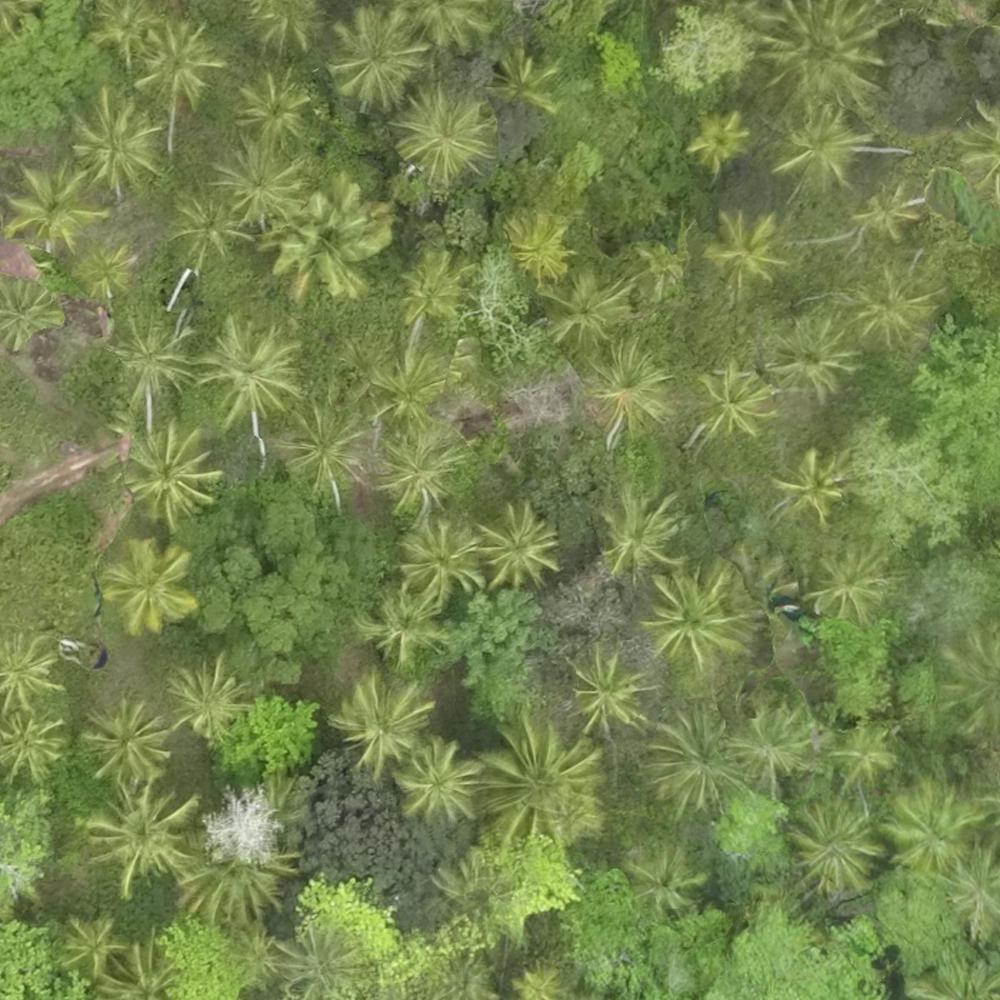Palm: (759, 1, 887, 121), (478, 721, 597, 839), (86, 785, 190, 888), (199, 317, 299, 424), (279, 191, 382, 294), (178, 826, 281, 924), (66, 93, 166, 193), (644, 563, 746, 661), (648, 708, 743, 812), (331, 7, 428, 100), (393, 90, 491, 179), (791, 797, 881, 893), (886, 786, 978, 876), (105, 539, 194, 631), (124, 430, 215, 519), (540, 266, 636, 350), (217, 136, 305, 227), (7, 162, 100, 248), (332, 679, 421, 768), (400, 517, 493, 602), (84, 700, 170, 790), (772, 104, 866, 186), (765, 315, 859, 397), (566, 648, 649, 739), (109, 312, 194, 400), (597, 493, 685, 578), (703, 207, 788, 293), (688, 358, 777, 440), (729, 705, 815, 786), (588, 348, 670, 432), (357, 586, 447, 661), (170, 656, 252, 736), (281, 405, 366, 482), (379, 432, 462, 510), (137, 24, 216, 102), (851, 272, 934, 346), (167, 191, 251, 263), (777, 446, 854, 524), (399, 745, 479, 817), (485, 506, 560, 580), (826, 719, 899, 793), (1, 636, 67, 713), (818, 546, 887, 619), (399, 250, 468, 322), (234, 69, 309, 135), (1, 712, 69, 780), (505, 209, 568, 281), (70, 240, 144, 299), (686, 108, 748, 172)
